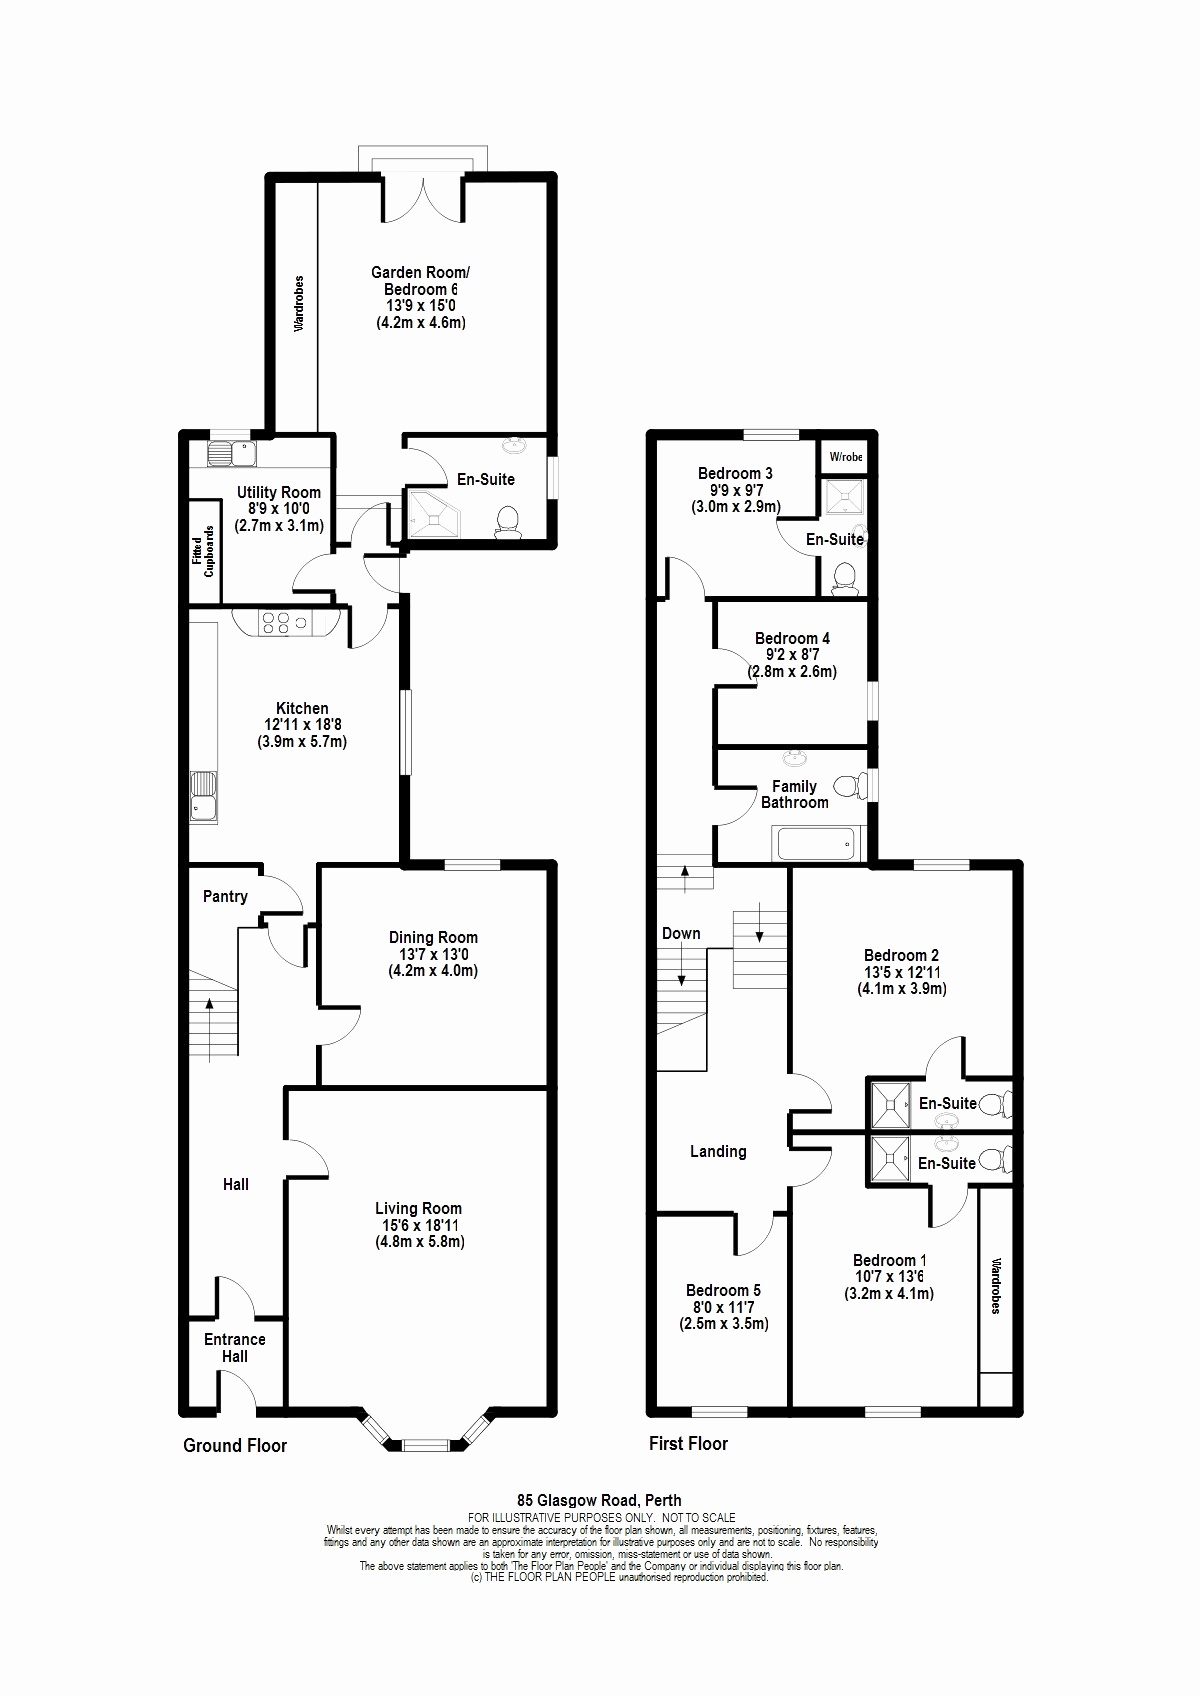door: (371, 186, 469, 231), (321, 1000, 371, 1053), (292, 1132, 342, 1186), (729, 1216, 781, 1264), (795, 1143, 844, 1187), (261, 873, 306, 919), (794, 1069, 836, 1118), (188, 1348, 239, 1390), (196, 1282, 247, 1323), (258, 930, 309, 971), (410, 442, 452, 492), (774, 512, 812, 564), (719, 784, 764, 829), (345, 612, 391, 655), (660, 552, 710, 590), (922, 1190, 966, 1232), (926, 1032, 970, 1071), (721, 647, 760, 690), (351, 497, 394, 536), (290, 556, 330, 595), (357, 551, 394, 590)
